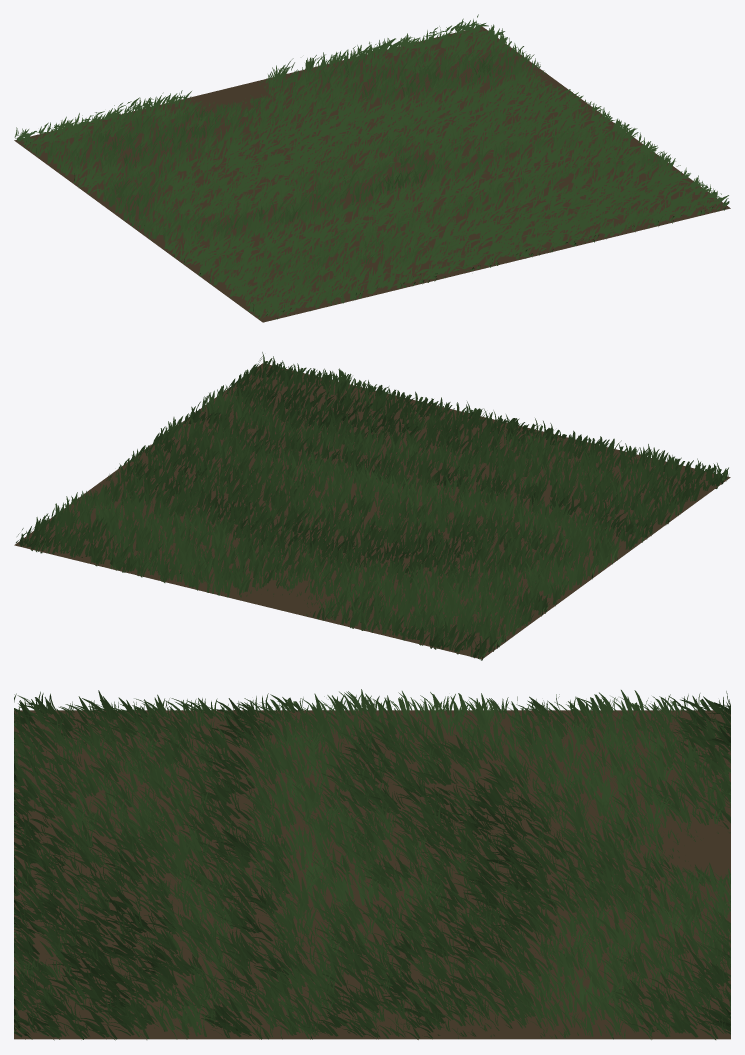
Rendered from ground_p5.glb.
3 views of the same model, one above another, from view 1: azimuth 30°, elevation 25°; view 2: azimuth 150°, elevation 25°; view 3: azimuth 270°, elevation 25° (orthographic). The views are drawn at different scales.
Visible parts, largest first — view 1: Ground_P5; view 2: Ground_P5; view 3: Ground_P5.
Boxes of the visible parts, bbox=[...] form: Ground_P5: bbox=[14, 14, 730, 322]; Ground_P5: bbox=[14, 352, 730, 660]; Ground_P5: bbox=[14, 689, 730, 1040].
Bounding box in the file's own units: 19 × 0.7911 × 17.5.
